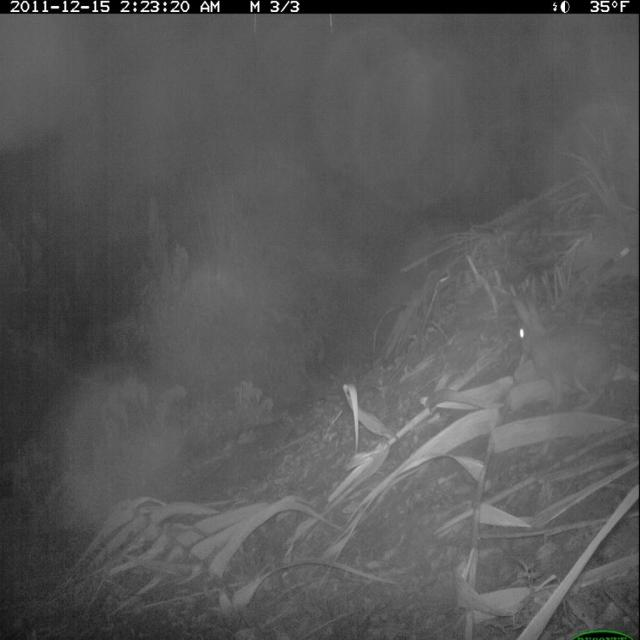rabbit: (506, 279, 622, 414)
